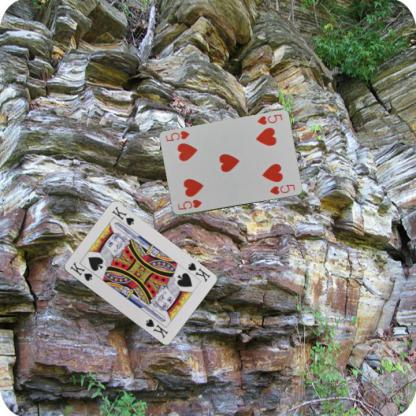5h: (254, 112, 284, 126), (175, 197, 203, 211)
Ks: (185, 260, 211, 283), (67, 260, 94, 282)
